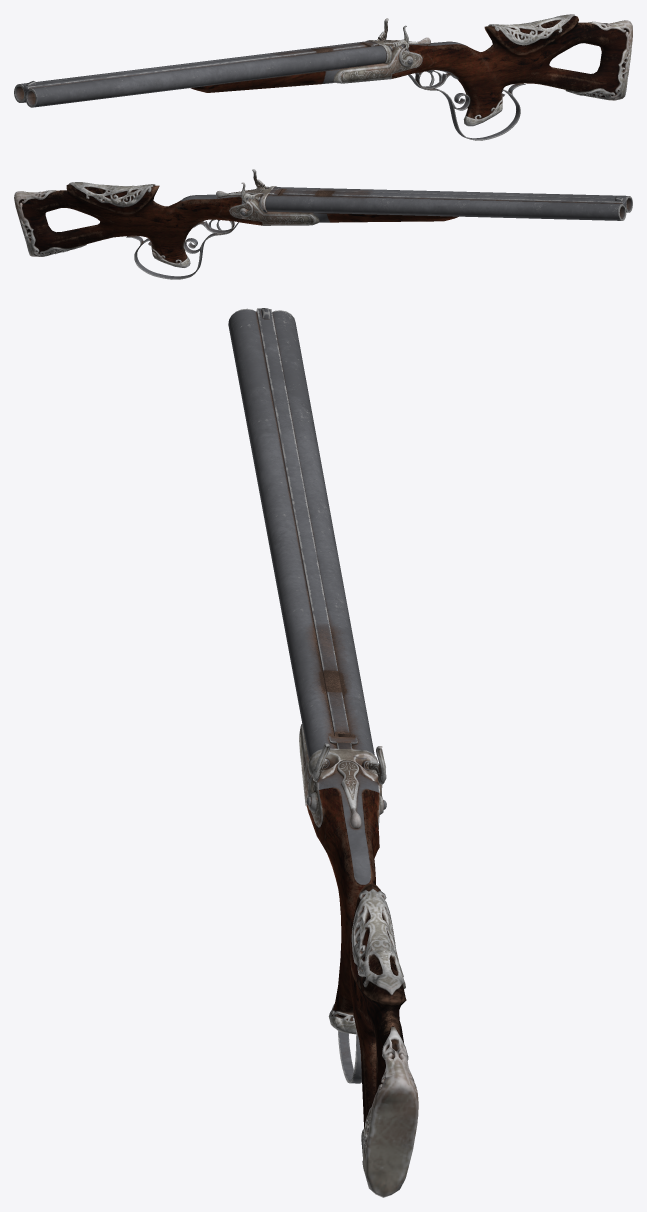
Rendered from Mercenary Shotgun.glb.
The picture shows the model from 3 angles, top to bottom: view 1: azimuth 30°, elevation 25°; view 2: azimuth 150°, elevation 25°; view 3: azimuth 270°, elevation 25°; orthographic projection. The views are drawn at different scales.
Visible parts, largest first — view 1: main_low, barrel01_low, barrel02_low, trg_deco02_low, mechanism01_low, trg_deco01_low; view 2: main_low, barrel01_low, barrel02_low, trg_deco02_low, mechanism01_low, lever_low, trg_deco01_low; view 3: main_low, barrel01_low, barrel02_low.
Boxes of the visible parts, x1,y1,x2,y2 form: main_low: (190, 14, 632, 126); barrel01_low: (14, 41, 386, 107); barrel02_low: (23, 43, 366, 93); trg_deco02_low: (408, 74, 525, 140); mechanism01_low: (378, 18, 413, 67); trg_deco01_low: (415, 71, 457, 88); main_low: (14, 182, 458, 267); barrel01_low: (265, 187, 632, 220); barrel02_low: (281, 190, 625, 206); trg_deco02_low: (126, 222, 238, 279); mechanism01_low: (239, 169, 264, 217); lever_low: (216, 189, 261, 197); trg_deco01_low: (193, 221, 234, 233); main_low: (299, 724, 418, 1197); barrel01_low: (228, 308, 374, 773); barrel02_low: (256, 308, 349, 736).
Bounding box in the file's own units: 4.98 × 1.42 × 0.7094.
Materials: 1 (1 with a texture image).
